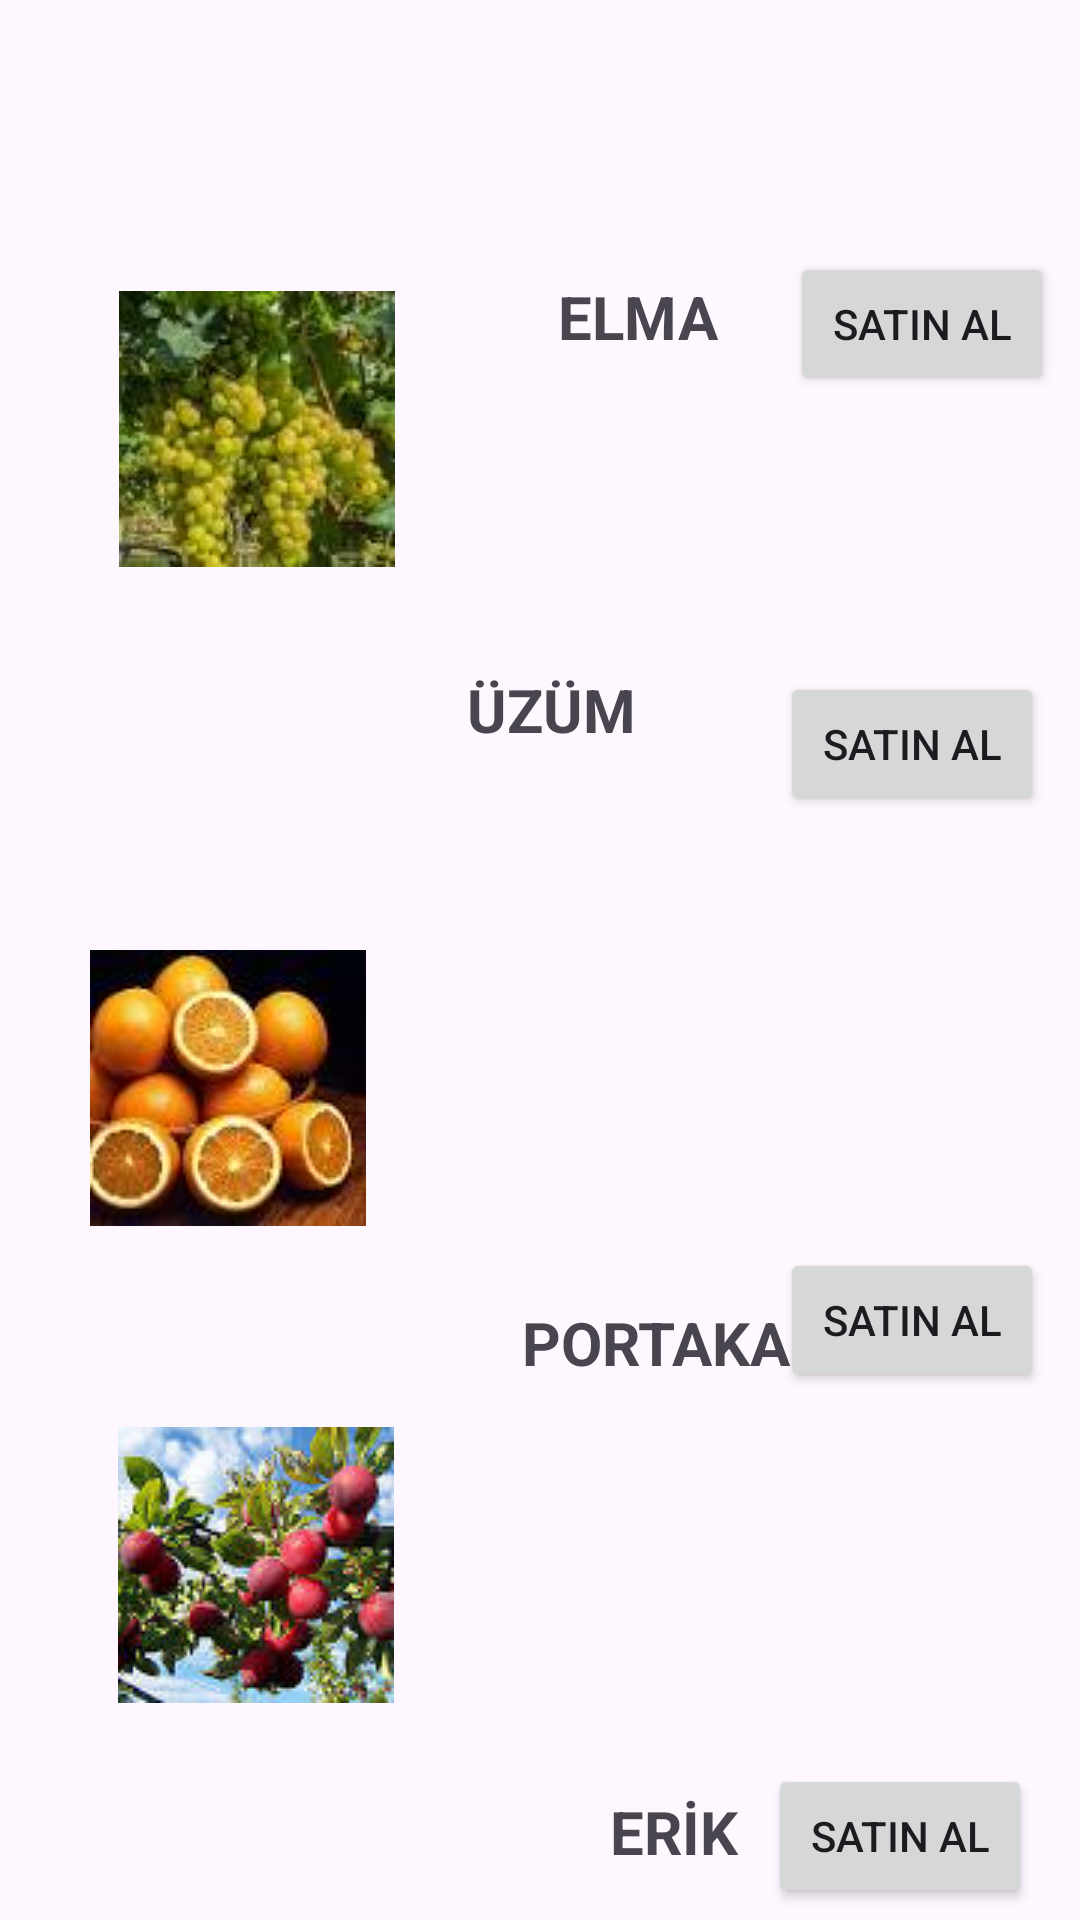

Icon bounding boxes for this 1080px x 1920px phone screenshot, format (x1=x1, y1=y1, x2=x2, y2=y2):
erik: (x1=118, y1=1427, x2=394, y2=1703)
portakal: (x1=90, y1=950, x2=366, y2=1226)
uzum: (x1=119, y1=291, x2=395, y2=567)
